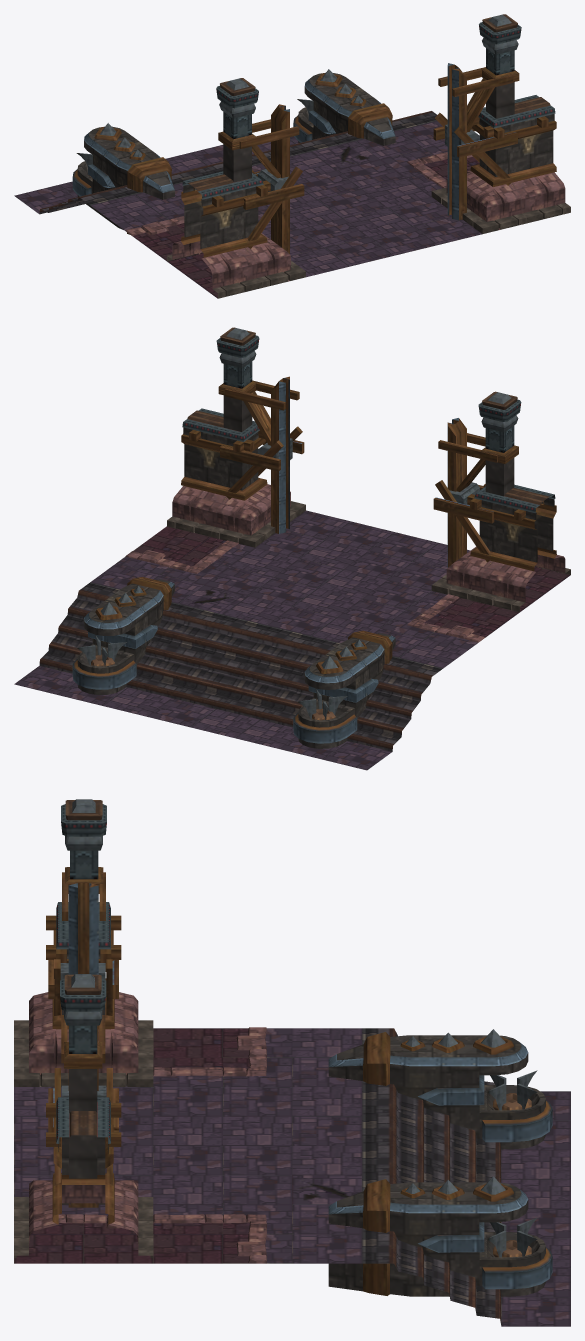
File: Room_Door_16_B.fbx
3 views of the same model, one above another, from view 1: azimuth 30°, elevation 25°; view 2: azimuth 150°, elevation 25°; view 3: azimuth 270°, elevation 25° (orthographic). The views are drawn at different scales.
Parts seen in each view (by area): view 1: Room_Door_16_B; view 2: Room_Door_16_B; view 3: Room_Door_16_B.
Boxes of the visible parts, x1,y1,x2,y2 form: Room_Door_16_B: [14, 14, 570, 298]; Room_Door_16_B: [14, 327, 570, 770]; Room_Door_16_B: [14, 799, 570, 1326].
Size of the model in its own units: 1600 by 1011 by 1600.
